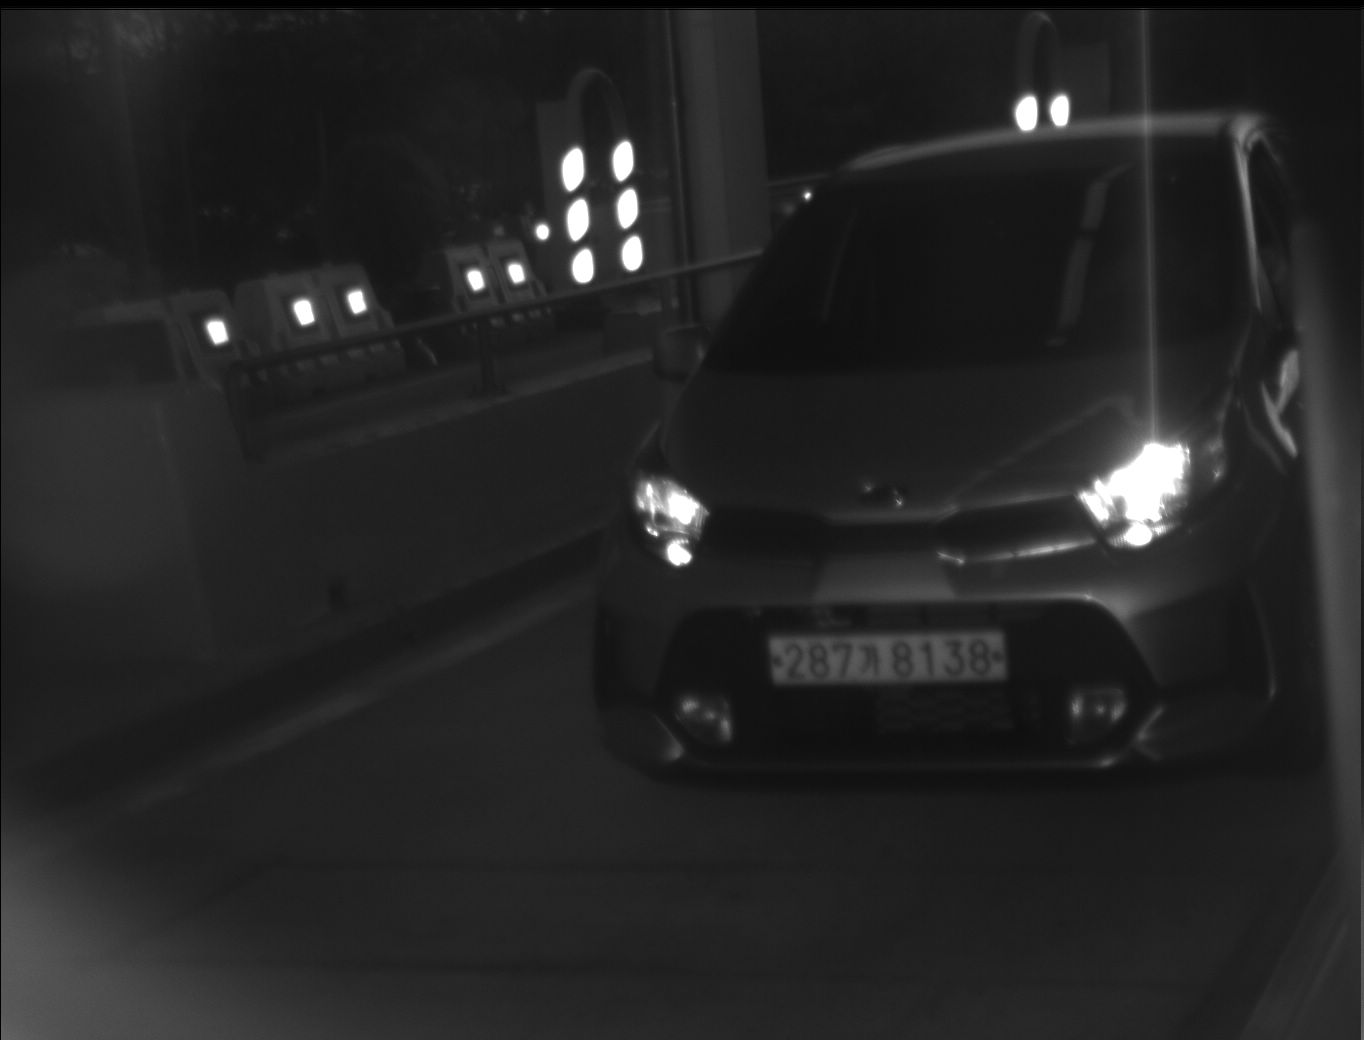car: (580, 106, 1300, 789)
plate: (762, 627, 1012, 689)
